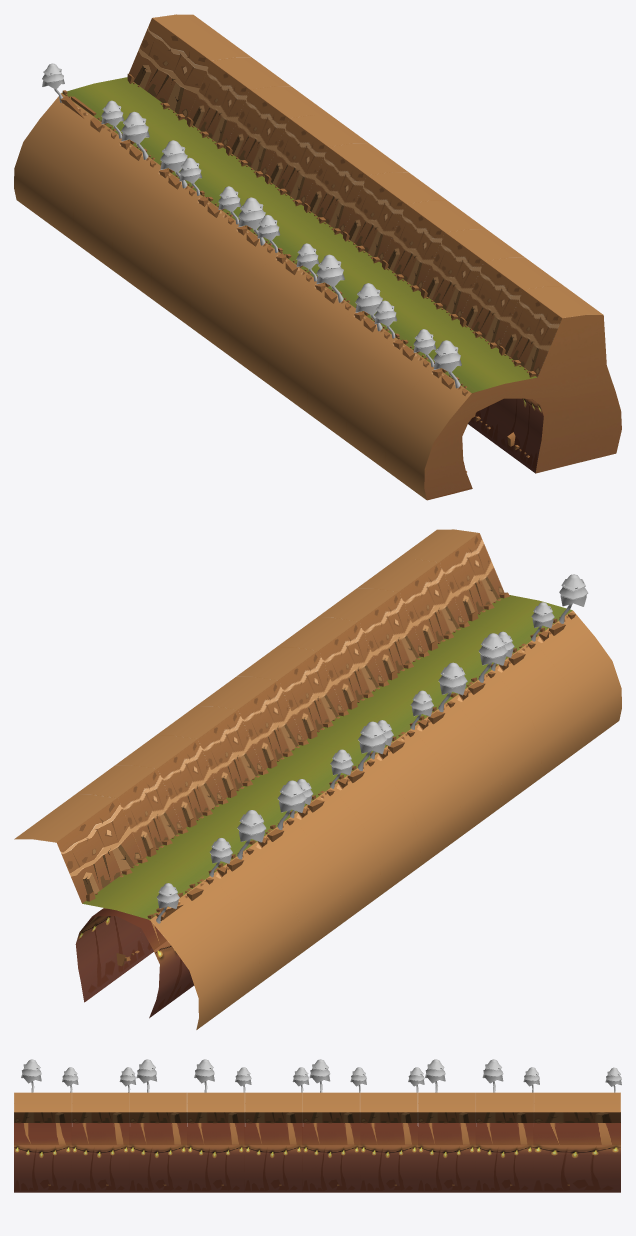
The model's file is hamdai1.fbx.
3 views of the same model, one above another, from view 1: azimuth 30°, elevation 25°; view 2: azimuth 150°, elevation 25°; view 3: azimuth 270°, elevation 25° (orthographic). The views are drawn at different scales.
Parts seen in each view (by area): view 1: pCube349; view 2: pCube349; view 3: pCube349.
Part boxes in pixels (x1,y1,x2,y2): pCube349: (14,14,621,500); pCube349: (14,529,621,1029); pCube349: (14,1059,621,1192).
Bounding box in the file's own units: 72.58 × 52.34 × 262.
